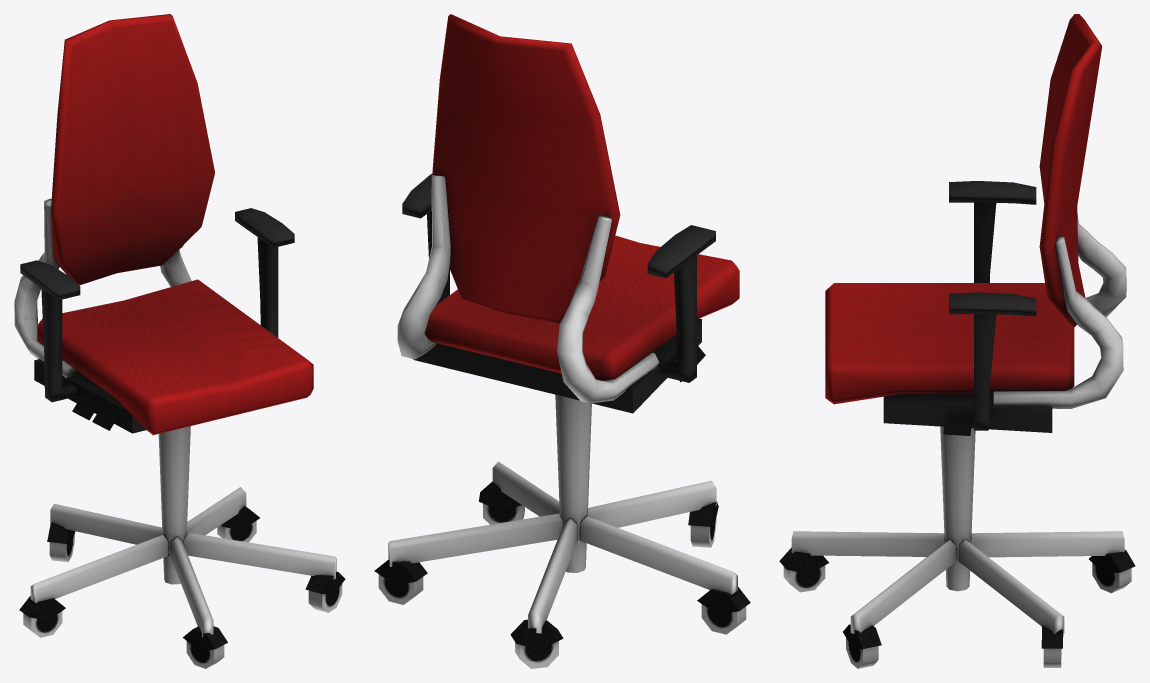
The model's file is officeChairAvans.fbx.
3 views of the same model, side by side, from view 1: azimuth 30°, elevation 25°; view 2: azimuth 150°, elevation 25°; view 3: azimuth 270°, elevation 25° (orthographic). The views are drawn at different scales.
Parts seen in each view (by area): view 1: officeChair; view 2: officeChair; view 3: officeChair.
Boxes of the visible parts, bbox=[...] form: officeChair: bbox=[14, 14, 345, 668]; officeChair: bbox=[374, 14, 750, 668]; officeChair: bbox=[779, 14, 1135, 668].
Bounding box in the file's own units: 1.35 × 2.49 × 1.42.
1 material, 1 textured.
